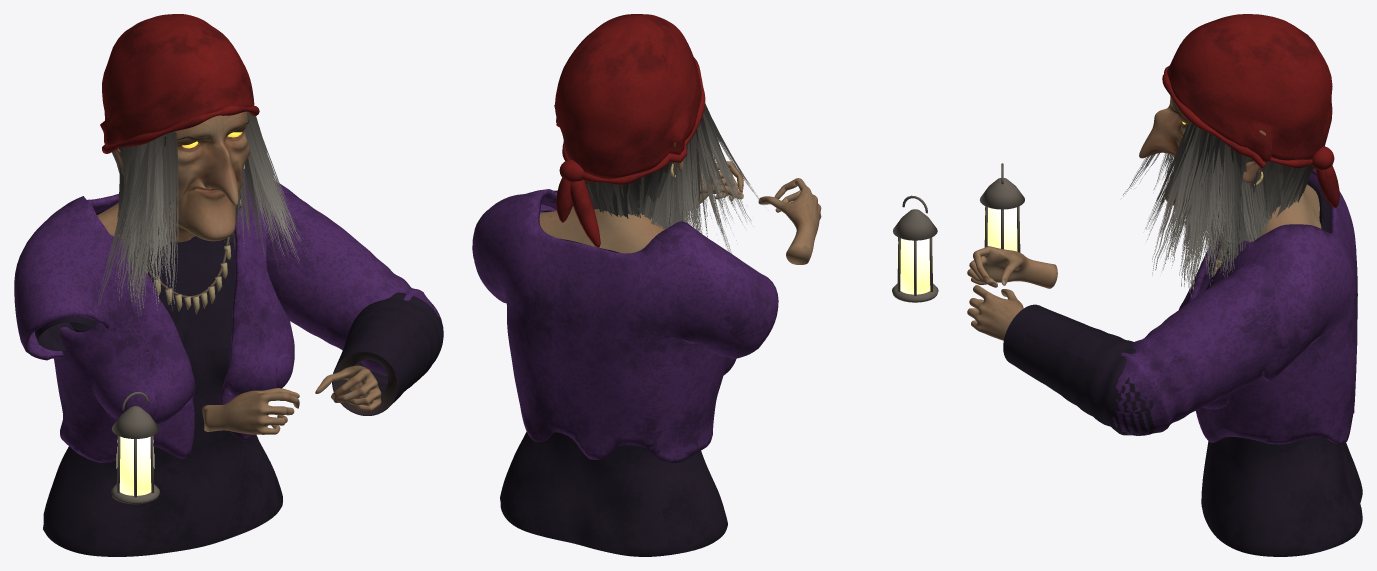
File: witch.glb
The picture shows the model from 3 angles, left to right: view 1: azimuth 30°, elevation 25°; view 2: azimuth 150°, elevation 25°; view 3: azimuth 270°, elevation 25°; orthographic projection. The views are drawn at different scales.
Parts seen in each view (by area): view 1: Body_Shawl, Body, Scarf, Hair_Fur, SleeveUpper, Face, SleeveFore, Hand_L, Lantern, Hand_R, Lantern_Glass, Scarf_Hem (+1 smaller); view 2: Body_Shawl, Body, Scarf, Hair_Fur, Face, Hand_L, Lantern, Scarf_Knot, Lantern_Glass, Scarf_Hem, Hand_R; view 3: Body_Shawl, Scarf, Body, SleeveUpper, Hair_Fur, SleeveFore, Face, Hand_L, Hand_R, Lantern, Scarf_Hem, Lantern_Glass (+1 smaller).
Boxes of the visible parts, left/top/right/bottom form: Body_Shawl: left=14, top=168, right=298, bottom=462; Body: left=34, top=211, right=282, bottom=556; Scarf: left=100, top=14, right=254, bottom=144; Hair_Fur: left=96, top=112, right=307, bottom=316; SleeveUpper: left=266, top=193, right=442, bottom=377; Face: left=97, top=111, right=250, bottom=242; SleeveFore: left=332, top=292, right=443, bottom=415; Hand_L: left=201, top=388, right=299, bottom=434; Lantern: left=111, top=391, right=159, bottom=504; Hand_R: left=315, top=365, right=381, bottom=411; Lantern_Glass: left=116, top=436, right=154, bottom=495; Scarf_Hem: left=102, top=105, right=259, bottom=153; Body_Shawl: left=472, top=189, right=778, bottom=463; Body: left=500, top=210, right=727, bottom=556; Scarf: left=554, top=14, right=701, bottom=178; Hair_Fur: left=585, top=103, right=763, bottom=253; Face: left=539, top=142, right=683, bottom=253; Hand_L: left=758, top=178, right=821, bottom=264; Lantern: left=892, top=195, right=938, bottom=302; Scarf_Knot: left=556, top=159, right=600, bottom=247; Lantern_Glass: left=897, top=238, right=933, bottom=294; Scarf_Hem: left=556, top=57, right=705, bottom=184; Hand_R: left=690, top=161, right=743, bottom=206; Body_Shawl: left=1179, top=168, right=1357, bottom=444; Scarf: left=1167, top=14, right=1332, bottom=162; Body: left=1201, top=180, right=1362, bottom=556; SleeveUpper: left=1112, top=264, right=1309, bottom=435; Hair_Fur: left=1121, top=122, right=1313, bottom=296; SleeveFore: left=1003, top=304, right=1155, bottom=435; Face: left=1139, top=96, right=1321, bottom=240; Hand_L: left=967, top=246, right=1057, bottom=288; Hand_R: left=967, top=285, right=1023, bottom=340; Lantern: left=980, top=163, right=1024, bottom=252; Scarf_Hem: left=1162, top=65, right=1324, bottom=168; Lantern_Glass: left=984, top=207, right=1020, bottom=251.
Size of the model in its own units: 0.9613 by 1.18 by 0.8697.
13 materials, 7 textured.
